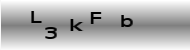3: (43, 26, 58, 39)
F: (89, 10, 102, 24)
L: (29, 9, 43, 24)
b: (119, 14, 133, 28)
k: (69, 18, 83, 32)
